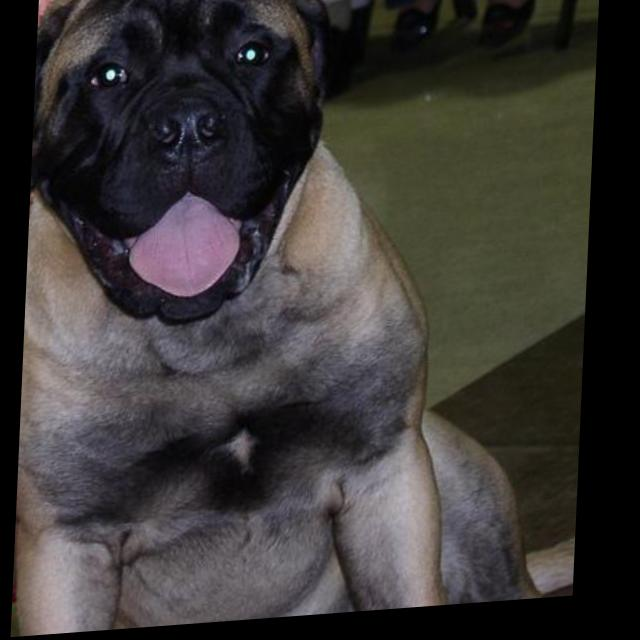bullmastiff: (18, 1, 602, 639)
